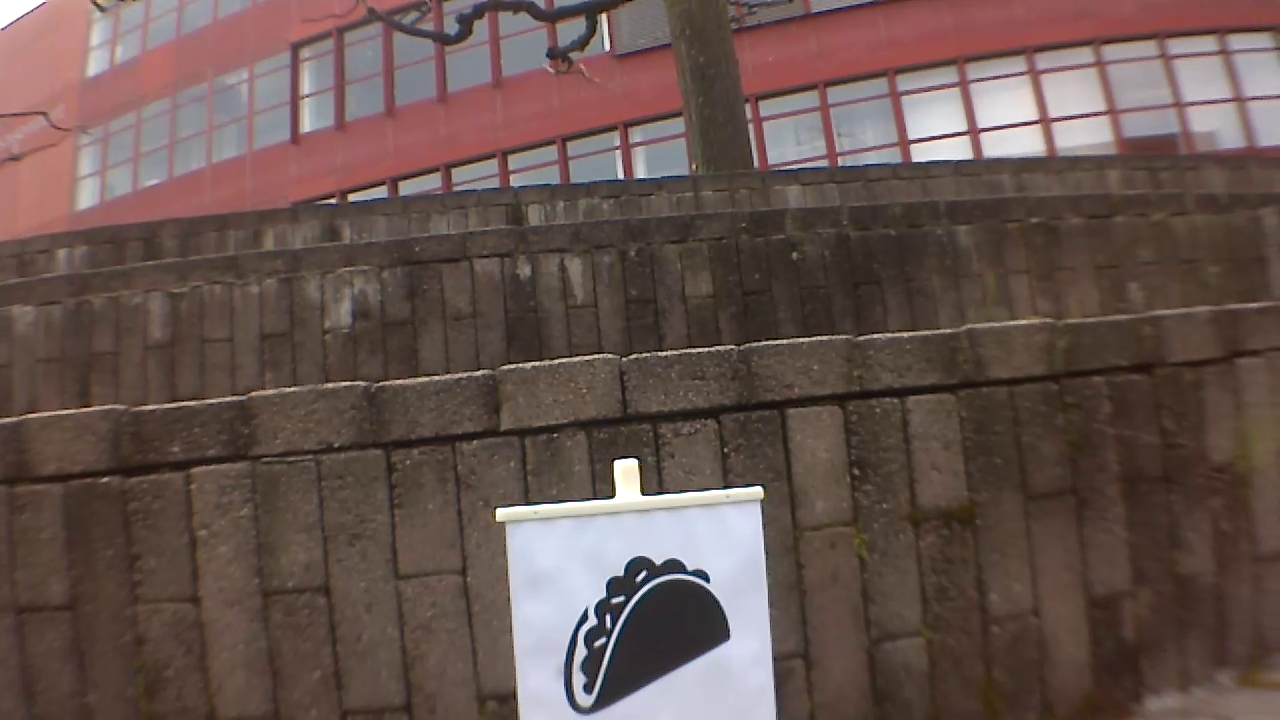taco: (551, 548, 744, 717)
